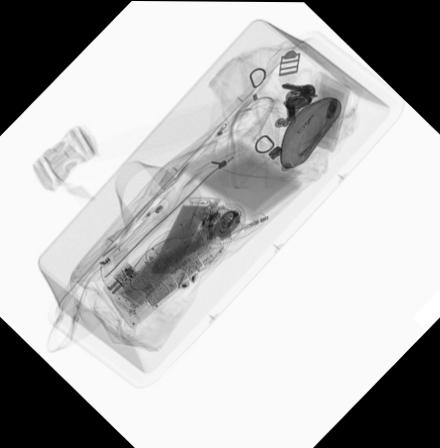Powerbank: (145, 202, 210, 275)
